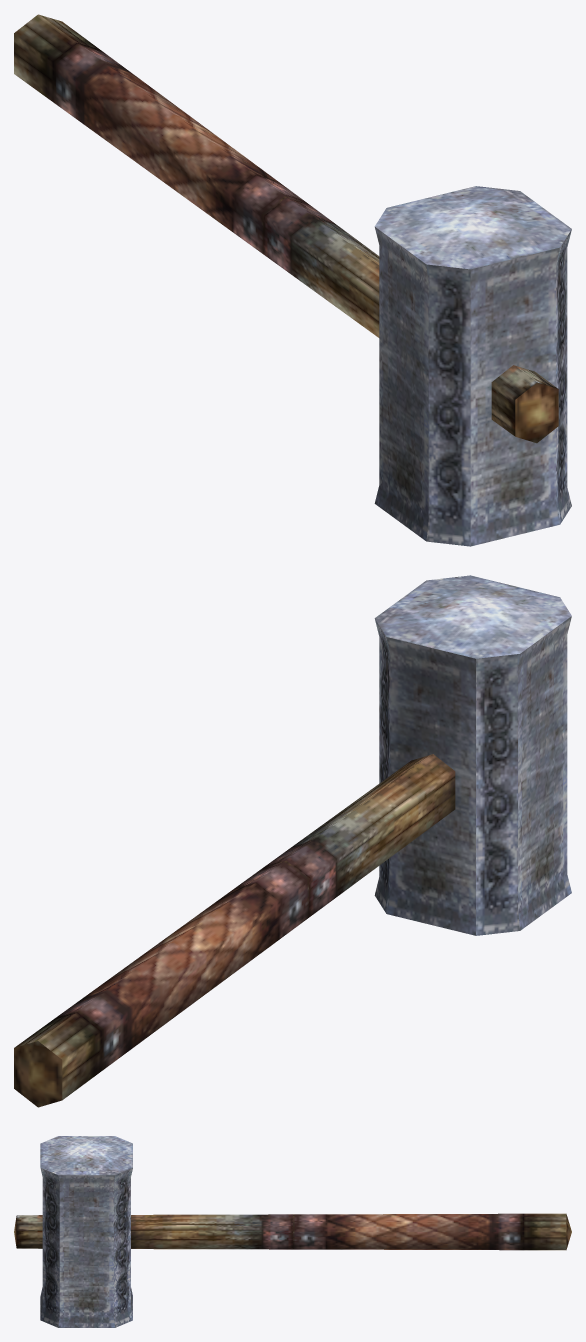
Rendered from waj14.glb.
The picture shows the model from 3 angles, top to bottom: view 1: azimuth 30°, elevation 25°; view 2: azimuth 150°, elevation 25°; view 3: azimuth 270°, elevation 25°; orthographic projection. The views are drawn at different scales.
Parts seen in each view (by area): view 1: waj14; view 2: waj14; view 3: waj14.
Boxes of the visible parts, x1,y1,x2,y2 form: waj14: (14,14,571,546); waj14: (14,575,571,1107); waj14: (14,1136,571,1327).
Bounding box in the file's own units: 0.1435 × 0.28 × 0.8644.
Materials: 1 (1 with a texture image).
